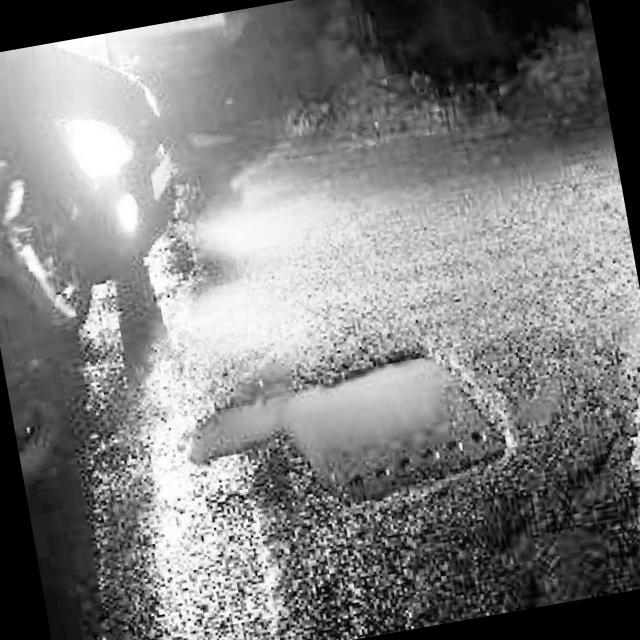Pothole: (168, 318, 530, 551)
